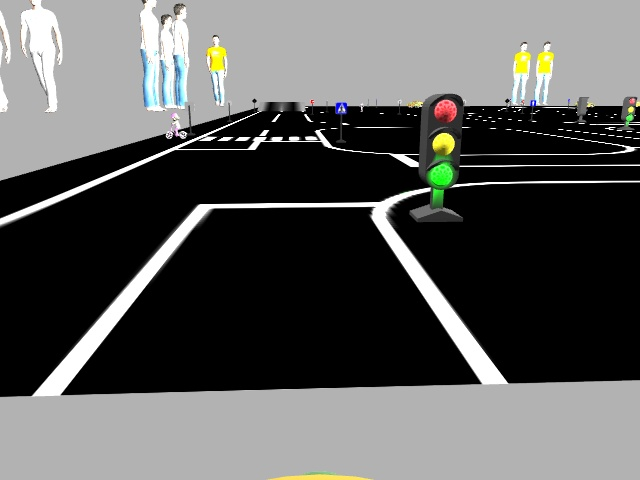Crosswalk: (335, 102, 345, 114)
Pedestrian: (165, 112, 187, 138)
TrafficLight: (419, 91, 463, 186)
